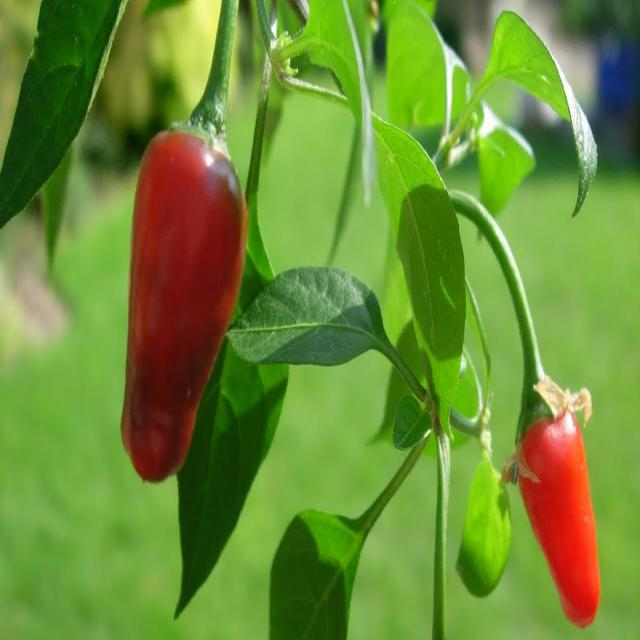chilli: (115, 90, 256, 501), (512, 362, 607, 636)
